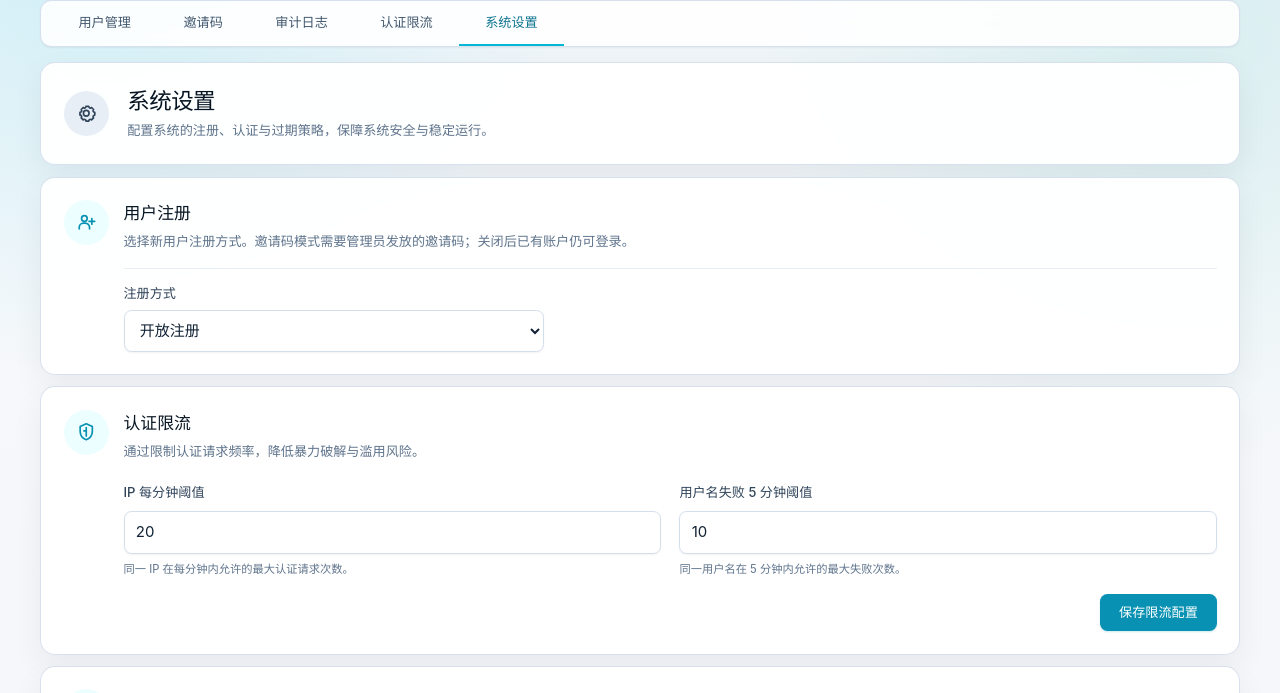
saves rate limit thresholds without changing registration state
The width and height of the screenshot is (1280, 693).
Replace the text in the number field labelled "IP 每分钟阈值" with "50" at coordinates (392, 533), box [124,511,661,554]
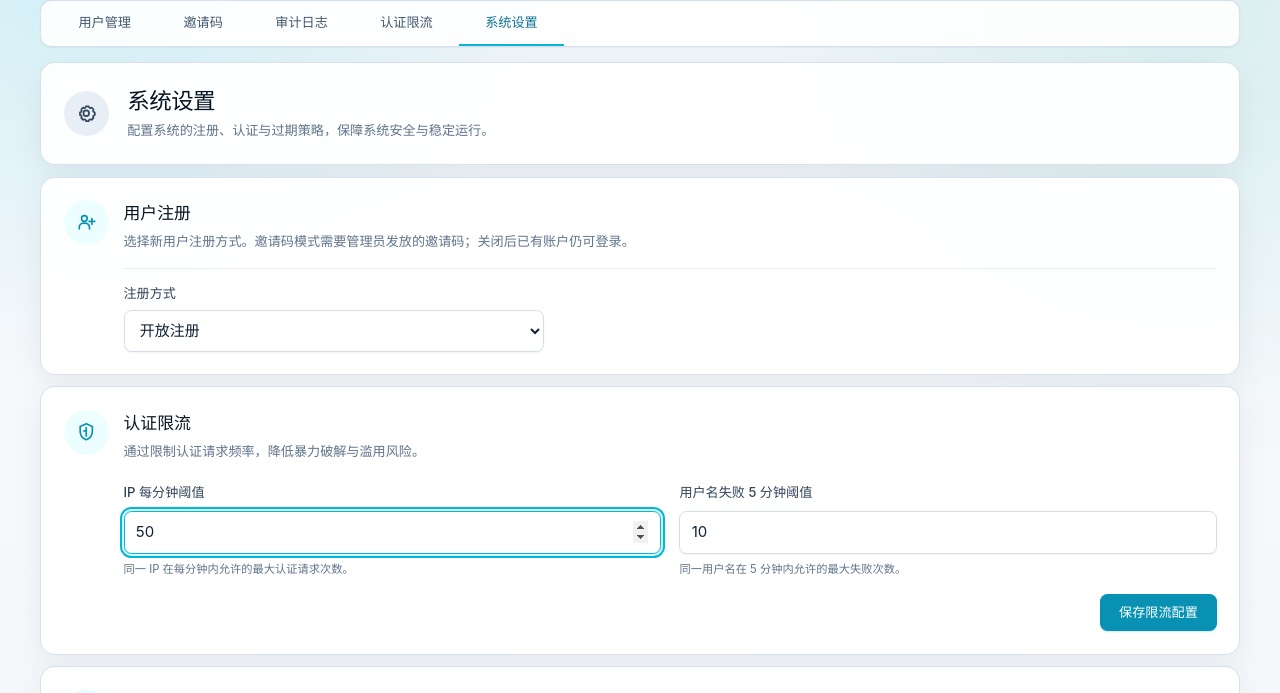
Replace the text in the number field labelled "用户名失败 5 分钟阈值" with "15" at coordinates (948, 533), box [679,511,1216,554]
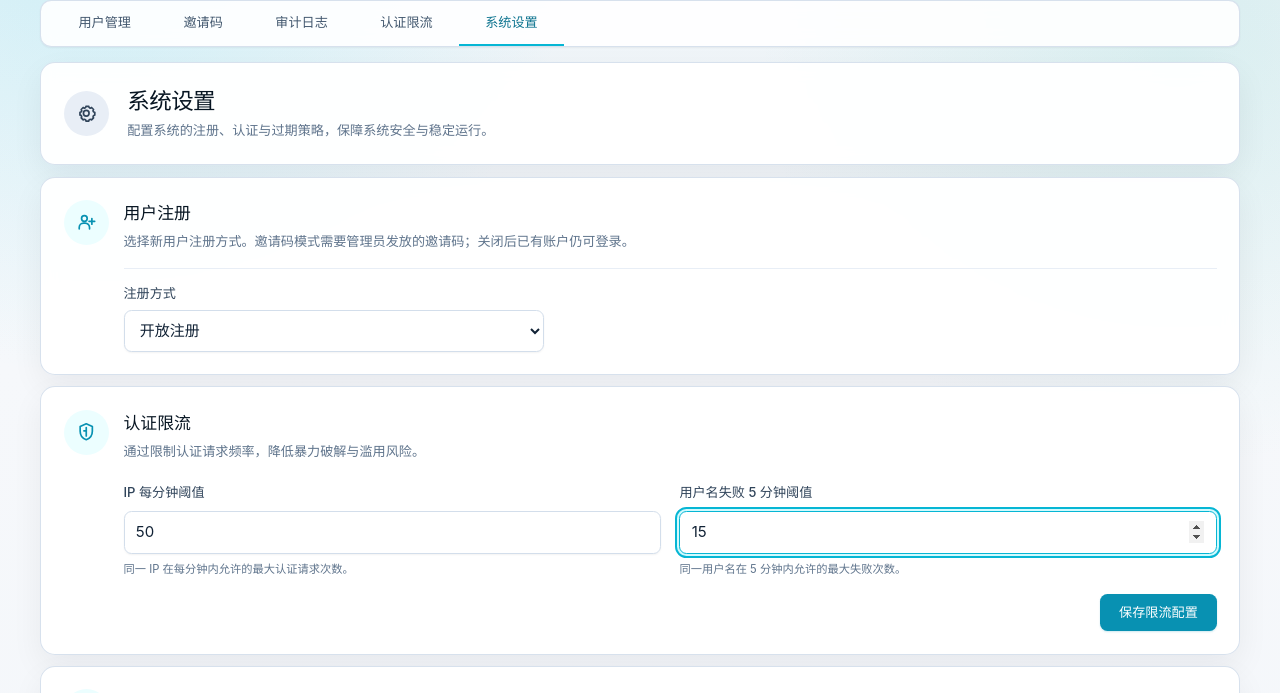
Click the button "保存限流配置" at coordinates (1158, 612), box [1100,594,1216,631]
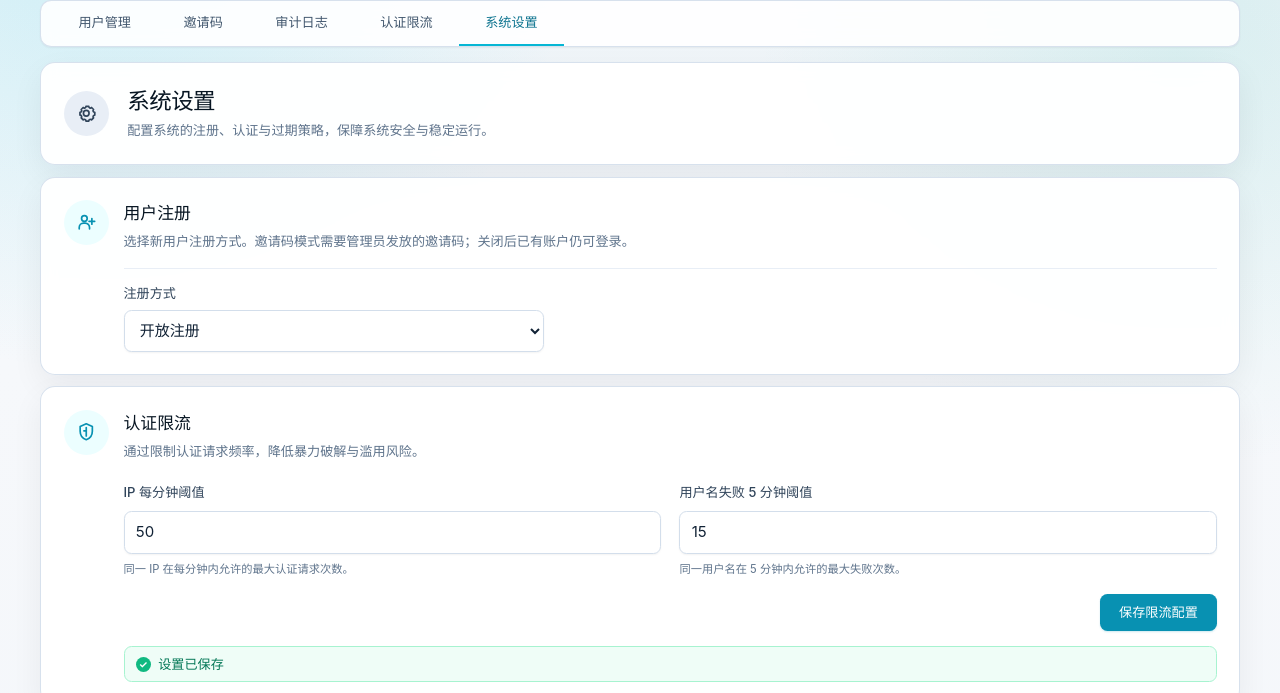
Now the text "设置已保存" is shown, box [158,656,224,672]
